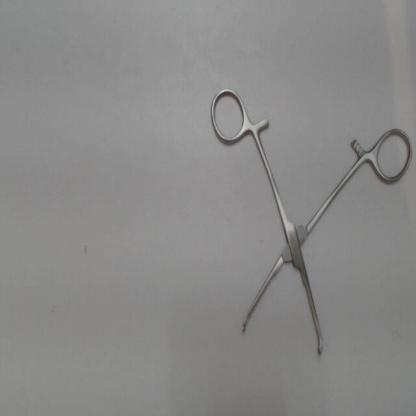Allis Tissue Forceps: (203, 77, 414, 367)
